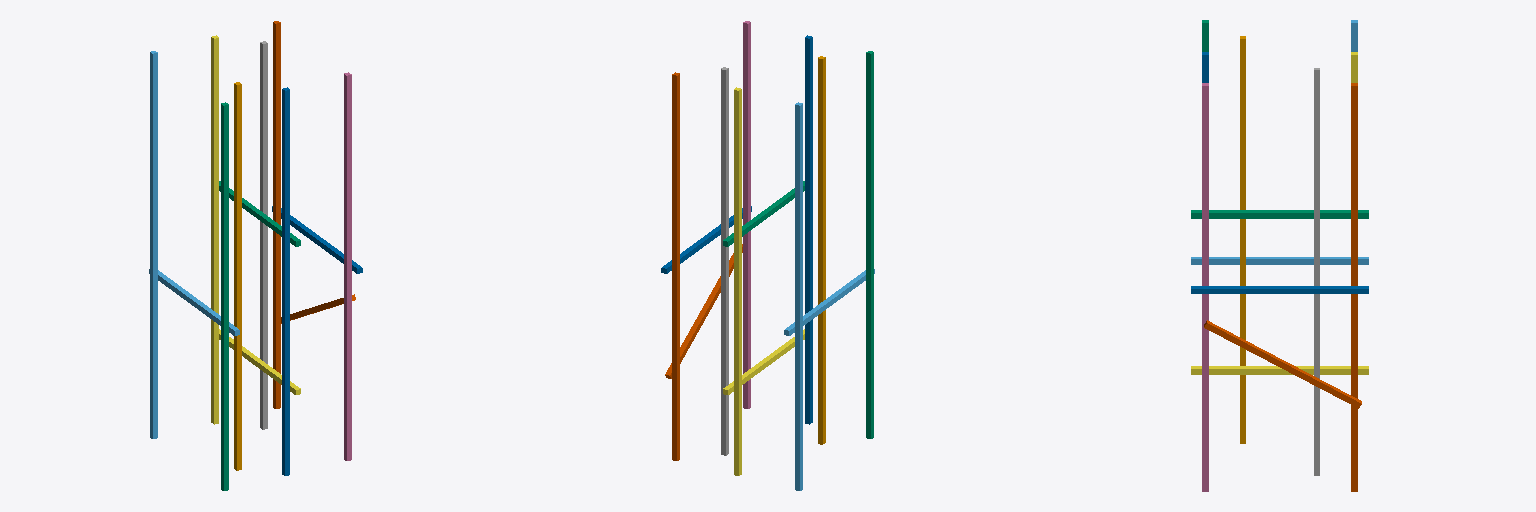
The robot description file, URDF, robot "gates2":
<robot name="gates2">
   <material name="Brown">
     <color rgba="83./255. 53./255. 10./255."/>
   </material>
   <material name="White">
     <color rgba="1 1 1"/>
   </material>
   <material name="Grey">
     <color rgba=".3 .3 .3"/>
   </material>
   <material name="Red">
     <color rgba="1 0 0"/>
   </material>
   <link name="world"/>

   <link name="l1">
   	<inertial>
   		<mass value=".5" />
   		<origin xyz="0 0 1.5" rpy="0 0 0"/>
		  <inertia ixx="10"  ixy="0"  ixz="0" iyy="10" iyz="0" izz="1" />
   	</inertial>
  	<visual>
      <origin xyz="0 0 1.5" rpy="0 0 0" />
      <geometry>
        <box size="0.042 0.042 3"/>
      </geometry>
      <material name="White"/>
    </visual>
    <collision>
      <origin xyz="0 0 1.5" rpy="0 0 0" />
      <geometry>
        <box size="0.042 0.042 3"/>
      </geometry>
    </collision>
   </link>
   <joint name="l1_weld" type="fixed">
    <parent link="world"/>
      <child link="l1"/>
    <origin xyz="-.5 .5 0" rpy="0 0 0" />
   </joint>
   <link name="l2">
   	<inertial>
   		<mass value=".5" />
   		<origin xyz="0 0 1.5" rpy="0 0 0"/>
		  <inertia ixx="10"  ixy="0"  ixz="0" iyy="10" iyz="0" izz="1" />
   	</inertial>
  	<visual>
      <origin xyz="0 0 1.5" rpy="0 0 0" />
      <geometry>
        <box size="0.042 0.042 3"/>
      </geometry>
      <material name="White"/>
    </visual>
    <collision>
      <origin xyz="0 0 1.5" rpy="0 0 0" />
      <geometry>
        <box size="0.042 0.042 3"/>
      </geometry>
    </collision>
   </link>
   <joint name="l2_weld" type="fixed">
    <parent link="world"/>
      <child link="l2"/>
    <origin xyz="-.5 -.5 0" rpy="0 0 0" />
   </joint>

   <link name="l3">
   	<inertial>
   		<mass value=".5" />
   		<origin xyz="0 0 1.5" rpy="0 0 0"/>
		  <inertia ixx="10"  ixy="0"  ixz="0" iyy="10" iyz="0" izz="1" />
   	</inertial>
  	<visual>
      <origin xyz="0 0 1.5" rpy="0 0 0" />
      <geometry>
        <box size="0.042 0.042 3"/>
      </geometry>
      <material name="White"/>
    </visual>
    <collision>
      <origin xyz="0 0 1.5" rpy="0 0 0" />
      <geometry>
        <box size="0.042 0.042 3"/>
      </geometry>
    </collision>
   </link>
   <joint name="l3_weld" type="fixed">
    <parent link="world"/>
      <child link="l3"/>
    <origin xyz="0 .5 0" rpy="0 0 0" />
   </joint>
   <link name="l4">
   	<inertial>
   		<mass value=".5" />
   		<origin xyz="0 0 1.5" rpy="0 0 0"/>
		  <inertia ixx="10"  ixy="0"  ixz="0" iyy="10" iyz="0" izz="1" />
   	</inertial>
  	<visual>
      <origin xyz="0 0 1.5" rpy="0 0 0" />
      <geometry>
        <box size="0.042 0.042 3"/>
      </geometry>
      <material name="White"/>
    </visual>
    <collision>
      <origin xyz="0 0 1.5" rpy="0 0 0" />
      <geometry>
        <box size="0.042 0.042 3"/>
      </geometry>
    </collision>
   </link>
   <joint name="l4_weld" type="fixed">
    <parent link="world"/>
      <child link="l4"/>
    <origin xyz="0 -.5 0" rpy="0 0 0" />
   </joint>

   <link name="l5">
   	<inertial>
   		<mass value=".5" />
   		<origin xyz="0 0 1.5" rpy="0 0 0"/>
		  <inertia ixx="10"  ixy="0"  ixz="0" iyy="10" iyz="0" izz="1" />
   	</inertial>
  	<visual>
      <origin xyz="0 0 1.5" rpy="0 0 0" />
      <geometry>
        <box size="0.042 0.042 3"/>
      </geometry>
      <material name="White"/>
    </visual>
    <collision>
      <origin xyz="0 0 1.5" rpy="0 0 0" />
      <geometry>
        <box size="0.042 0.042 3"/>
      </geometry>
    </collision>
   </link>
   <joint name="l5_weld" type="fixed">
    <parent link="world"/>
      <child link="l5"/>
    <origin xyz=".5 .5 0" rpy="0 0 0" />
   </joint>
   <link name="l6">
   	<inertial>
   		<mass value=".5" />
   		<origin xyz="0 0 1.5" rpy="0 0 0"/>
		  <inertia ixx="10"  ixy="0"  ixz="0" iyy="10" iyz="0" izz="1" />
   	</inertial>
  	<visual>
      <origin xyz="0 0 1.5" rpy="0 0 0" />
      <geometry>
        <box size="0.042 0.042 3"/>
      </geometry>
      <material name="White"/>
    </visual>
    <collision>
      <origin xyz="0 0 1.5" rpy="0 0 0" />
      <geometry>
        <box size="0.042 0.042 3"/>
      </geometry>
    </collision>
   </link>
   <joint name="l6_weld" type="fixed">
    <parent link="world"/>
      <child link="l6"/>
    <origin xyz=".5 -.5 0" rpy="0 0 0" />
   </joint>

   <link name="l7">
   	<inertial>
   		<mass value=".5" />
   		<origin xyz="0 0 1.5" rpy="0 0 0"/>
		  <inertia ixx="10"  ixy="0"  ixz="0" iyy="10" iyz="0" izz="1" />
   	</inertial>
  	<visual>
      <origin xyz="0 0 1.5" rpy="0 0 0" />
      <geometry>
        <box size="0.042 0.042 3"/>
      </geometry>
      <material name="White"/>
    </visual>
    <collision>
      <origin xyz="0 0 1.5" rpy="0 0 0" />
      <geometry>
        <box size="0.042 0.042 3"/>
      </geometry>
    </collision>
   </link>
   <joint name="l7_weld" type="fixed">
    <parent link="world"/>
      <child link="l7"/>
    <origin xyz=".25 .25 0" rpy="0 0 0" />
   </joint>

   <link name="l8">
   	<inertial>
   		<mass value=".5" />
   		<origin xyz="0 0 1.5" rpy="0 0 0"/>
		  <inertia ixx="10"  ixy="0"  ixz="0" iyy="10" iyz="0" izz="1" />
   	</inertial>
  	<visual>
      <origin xyz="0 0 1.5" rpy="0 0 0" />
      <geometry>
        <box size="0.042 0.042 3"/>
      </geometry>
      <material name="White"/>
    </visual>
    <collision>
      <origin xyz="0 0 1.5" rpy="0 0 0" />
      <geometry>
        <box size="0.042 0.042 3"/>
      </geometry>
    </collision>
   </link>
   <joint name="l8_weld" type="fixed">
    <parent link="world"/>
      <child link="l8"/>
    <origin xyz="-.25 -.25 0" rpy="0 0 0" />
   </joint>

  <link name="s1">
   	<inertial>
   		<mass value=".5" />
   		<origin xyz="0 0 .6" rpy="0 0 0"/>
		  <inertia ixx="5"  ixy="0"  ixz="0" iyy="5" iyz="0" izz="1" />
   	</inertial>
  	<visual>
      <origin xyz="0 0 0.6" rpy="0 0 0" />
      <geometry>
        <box size="0.042 0.042 1.2"/>
      </geometry>
      <material name="White"/>
    </visual>
    <collision>
      <origin xyz="0 0 0.6" rpy="0 0 0" />
      <geometry>
        <box size="0.042 0.042 1.2"/>
      </geometry>
    </collision>
   </link>
   <joint name="s1_weld" type="fixed">
    <parent link="l2"/>
      <child link="s1"/>
    <origin xyz="0.042 -.1 1.25" rpy="-1.570796326794897 0 0" />
   </joint>
  <link name="s2">
   	<inertial>
   		<mass value=".5" />
   		<origin xyz="0 0 .6" rpy="0 0 0"/>
		  <inertia ixx="5"  ixy="0"  ixz="0" iyy="5" iyz="0" izz="1" />
   	</inertial>
  	<visual>
      <origin xyz="0 0 0.6" rpy="0 0 0" />
      <geometry>
        <box size="0.042 0.042 1.2"/>
      </geometry>
      <material name="White"/>
    </visual>
    <collision>
      <origin xyz="0 0 0.6" rpy="0 0 0" />
      <geometry>
        <box size="0.042 0.042 1.2"/>
      </geometry>
    </collision>
   </link>
   <joint name="s2_weld" type="fixed">
    <parent link="l4"/>
      <child link="s2"/>
    <origin xyz="0.042 -.1 1.8274" rpy="-1.570796326794897 0 0" />
   </joint>
  <link name="s3">
   	<inertial>
   		<mass value=".5" />
   		<origin xyz="0 0 .6" rpy="0 0 0"/>
		  <inertia ixx="5"  ixy="0"  ixz="0" iyy="5" iyz="0" izz="1" />
   	</inertial>
  	<visual>
      <origin xyz="0 0 0.6" rpy="0 0 0" />
      <geometry>
        <box size="0.042 0.042 1.2"/>
      </geometry>
      <material name="White"/>
    </visual>
    <collision>
      <origin xyz="0 0 0.6" rpy="0 0 0" />
      <geometry>
        <box size="0.042 0.042 1.2"/>
      </geometry>
    </collision>
   </link>
   <joint name="s3_weld" type="fixed">
    <parent link="l4"/>
      <child link="s3"/>
    <origin xyz="0.042 -.1 0.6726" rpy="-1.570796326794897 0 0" />
   </joint>

  <link name="s4">
   	<inertial>
   		<mass value=".5" />
   		<origin xyz="0 0 .6" rpy="0 0 0"/>
		  <inertia ixx="5"  ixy="0"  ixz="0" iyy="5" iyz="0" izz="1" />
   	</inertial>
  	<visual>
      <origin xyz="0 0 0.6" rpy="0 0 0" />
      <geometry>
        <box size="0.042 0.042 1.2"/>
      </geometry>
      <material name="White"/>
    </visual>
    <collision>
      <origin xyz="0 0 0.6" rpy="0 0 0" />
      <geometry>
        <box size="0.042 0.042 1.2"/>
      </geometry>
    </collision>
   </link>
   <joint name="s4_weld" type="fixed">
    <parent link="l6"/>
      <child link="s4"/>
    <origin xyz="0.042 -.1 1.5" rpy="-1.570796326794897 0 0" />
   </joint>

  <link name="s5">
   	<inertial>
   		<mass value=".5" />
   		<origin xyz="0 0 .6" rpy="0 0 0"/>
		  <inertia ixx="5"  ixy="0"  ixz="0" iyy="5" iyz="0" izz="1" />
   	</inertial>
  	<visual>
      <origin xyz="0 0 0.6" rpy="0 0 0" />
      <geometry>
        <box size="0.042 0.042 1.2"/>
      </geometry>
      <material name="White"/>
    </visual>
    <collision>
      <origin xyz="0 0 0.6" rpy="0 0 0" />
      <geometry>
        <box size="0.042 0.042 1.2"/>
      </geometry>
    </collision>
   </link>
   <joint name="s5_weld" type="fixed">
    <parent link="l6"/>
      <child link="s5"/>
    <origin xyz="0.042 0 1.25" rpy="-2.094395102393196 0 0" />
   </joint>

</robot>

--- What the picture shows (computed from the rendered views, not written in the file) ---
Views: 3 orthographic renders of the robot side by side, from view 1: azimuth 30°, elevation 25°; view 2: azimuth 150°, elevation 25°; view 3: azimuth 270°, elevation 25°.
Robot: gates2 — 14 links, 13 joints (13 fixed); root link world; default pose: all joints at 0.
Visible links, largest first — view 1: l2, l6, l4, l1, l8, l3, l7, l5, s1, s4, s2, s3; view 2: l1, l5, l3, l2, l4, l8, l7, l6, s5, s1, s2, s3 (+1 smaller); view 3: l6, l5, l7, l8, s5, s4, s2, s3, s1.
Link boxes in pixels (x1,y1,x2,y2): l2: (221,102,228,490); l6: (344,72,351,460); l4: (282,87,289,475); l1: (150,51,157,438); l8: (234,82,241,470); l3: (211,35,218,424); l7: (260,41,267,429); l5: (273,21,280,408); s1: (149,269,239,335); s4: (272,206,362,273); s2: (219,181,300,246); s3: (219,329,300,394); l1: (795,102,802,490); l5: (672,72,679,460); l3: (734,87,741,475); l2: (866,51,873,438); l4: (805,35,812,424); l8: (818,56,825,444); l7: (721,67,728,455); l6: (743,21,750,408); s5: (665,244,742,378); s1: (784,269,874,335); s2: (723,181,804,246); s3: (723,329,804,394); l6: (1202,83,1208,491); l5: (1351,83,1357,491); l7: (1314,68,1319,475); l8: (1240,36,1245,443); s5: (1204,320,1361,408); s4: (1191,286,1368,293); s2: (1191,210,1368,218); s3: (1191,366,1368,374); s1: (1191,257,1368,264).
Bounding box of the posed robot: 1.08 × 1.2 × 3 m (x, y, z).
Geometry: primitives only (box / cylinder / sphere), no mesh files.
